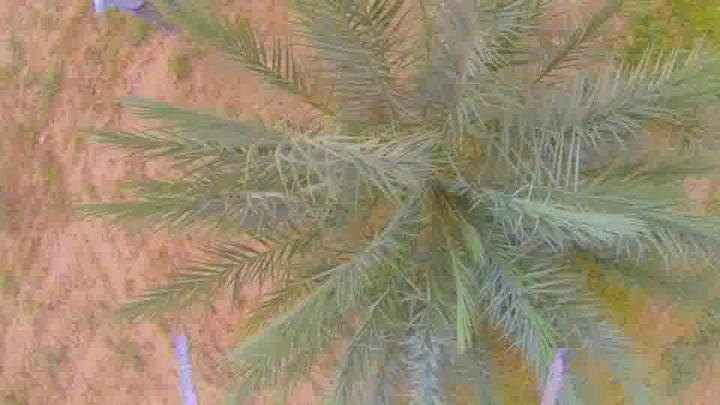Date-Palm-Crown: (271, 38, 633, 366)
